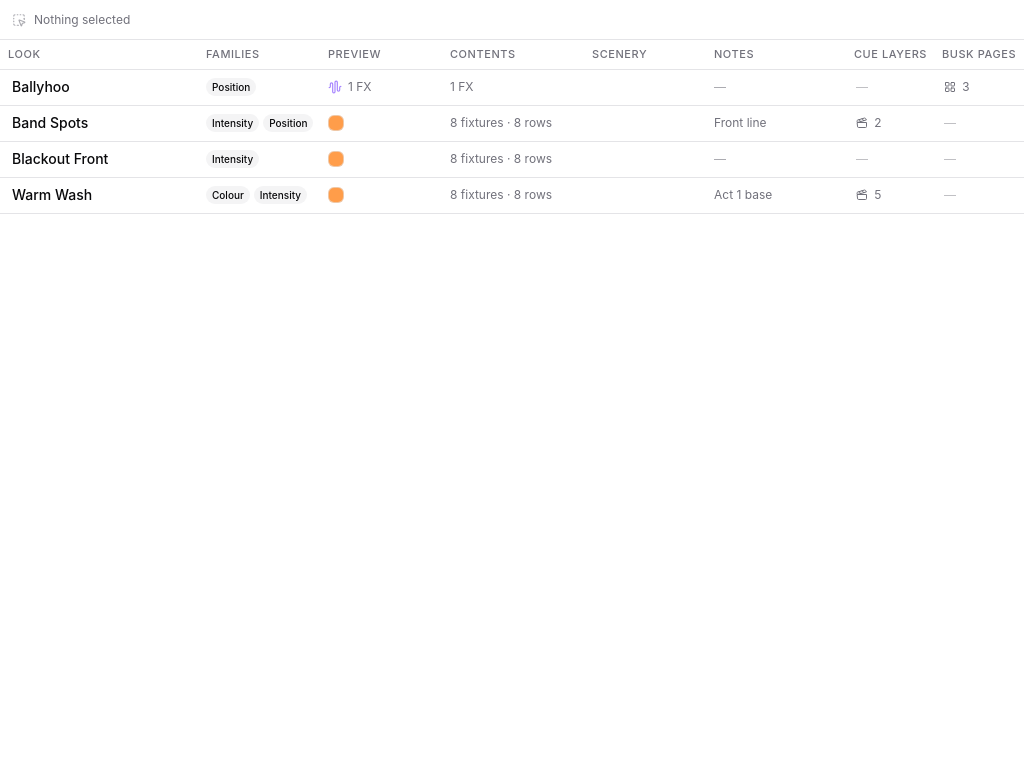
LookSheet › Delete over three asks once: the one a cue layers, and the one with pads it never sent
The image size is (1024, 768).
Click the element showing "Ballyhoo" at (100, 87), box [0,70,200,104]
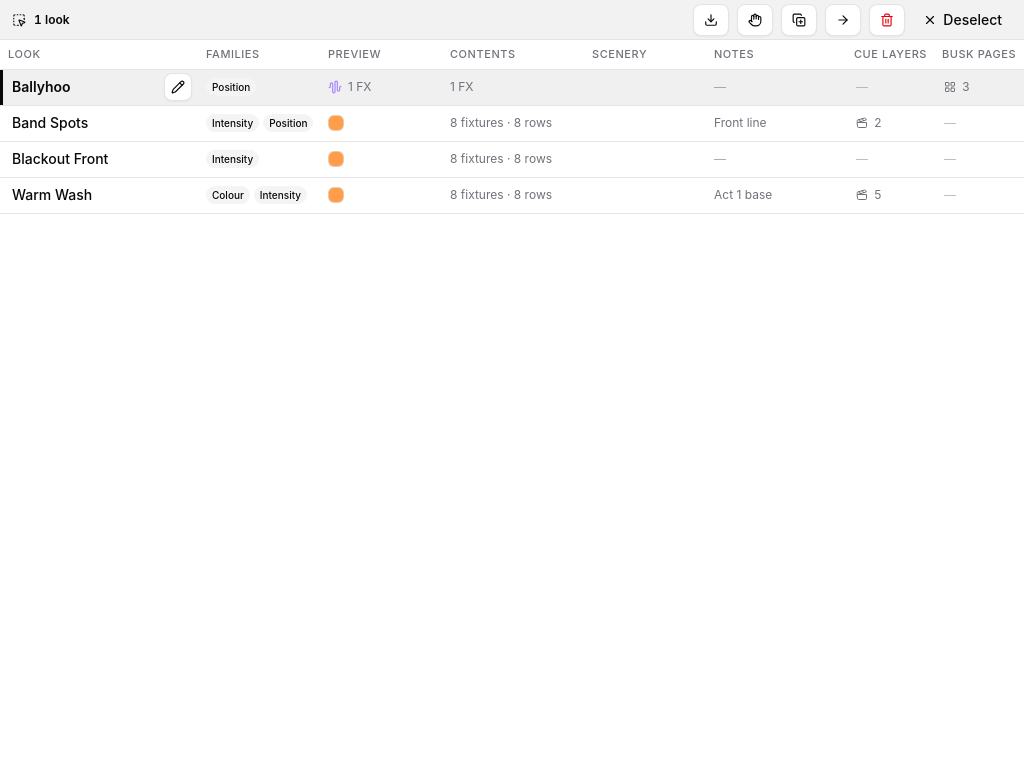
Click the element showing "Band Spots" at (100, 123), box [0,106,200,140]
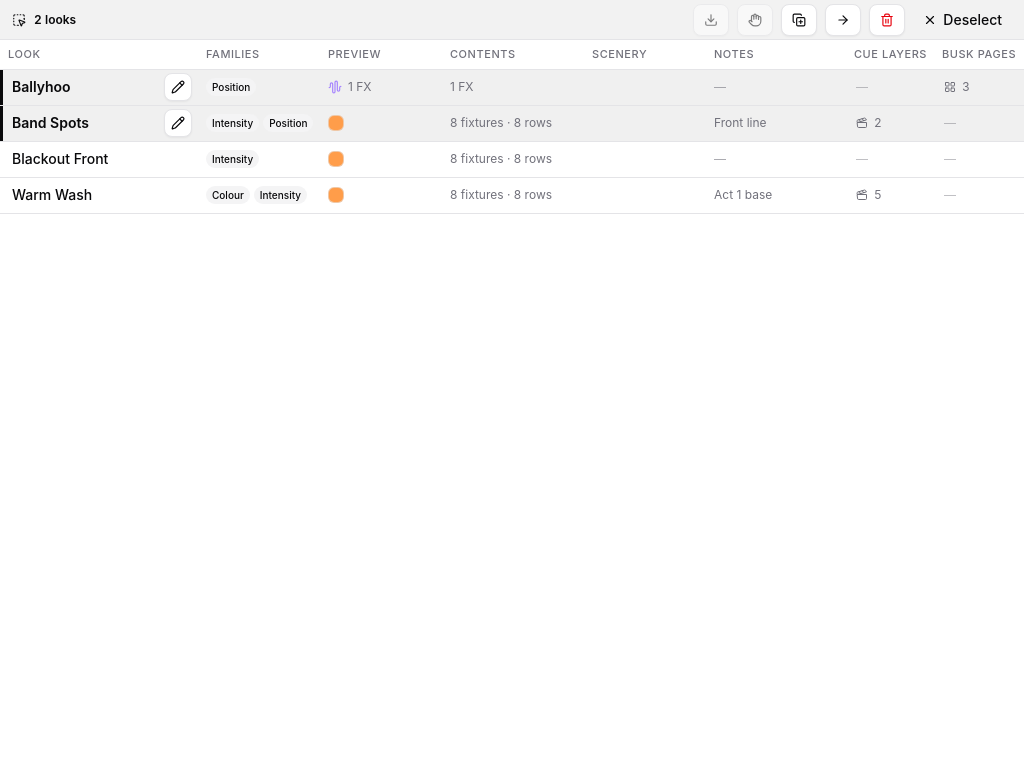
Click the element showing "Blackout Front" at (100, 159), box [0,142,200,176]
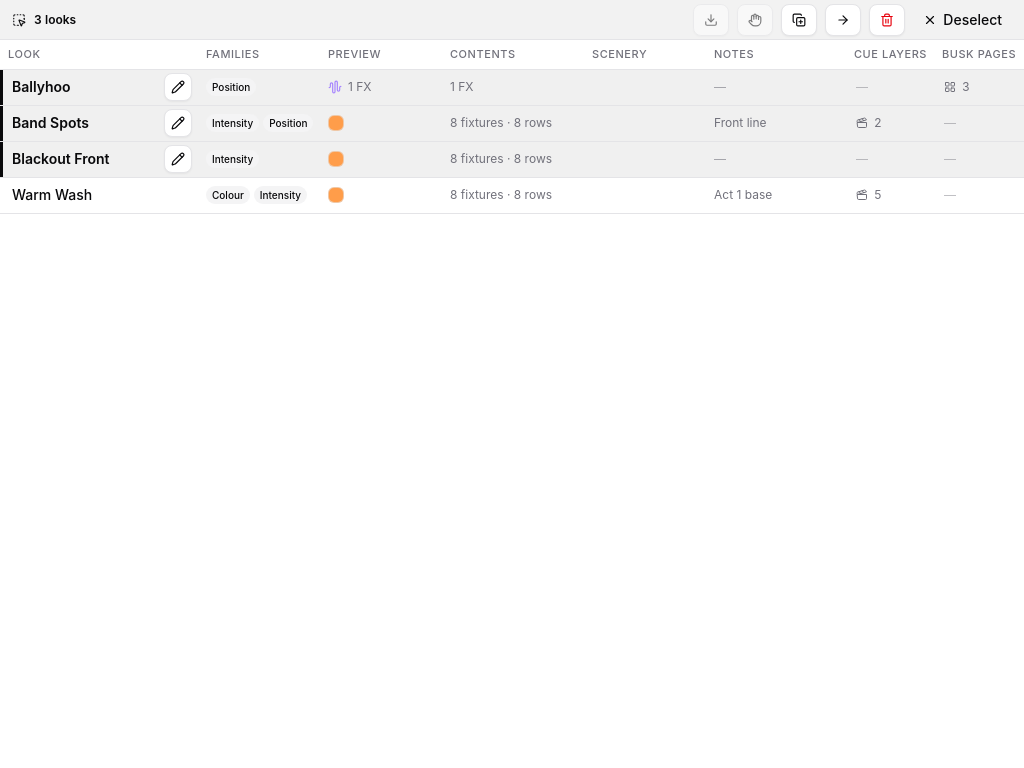
Click the button named "Delete" at (887, 20), box [869,4,905,36]
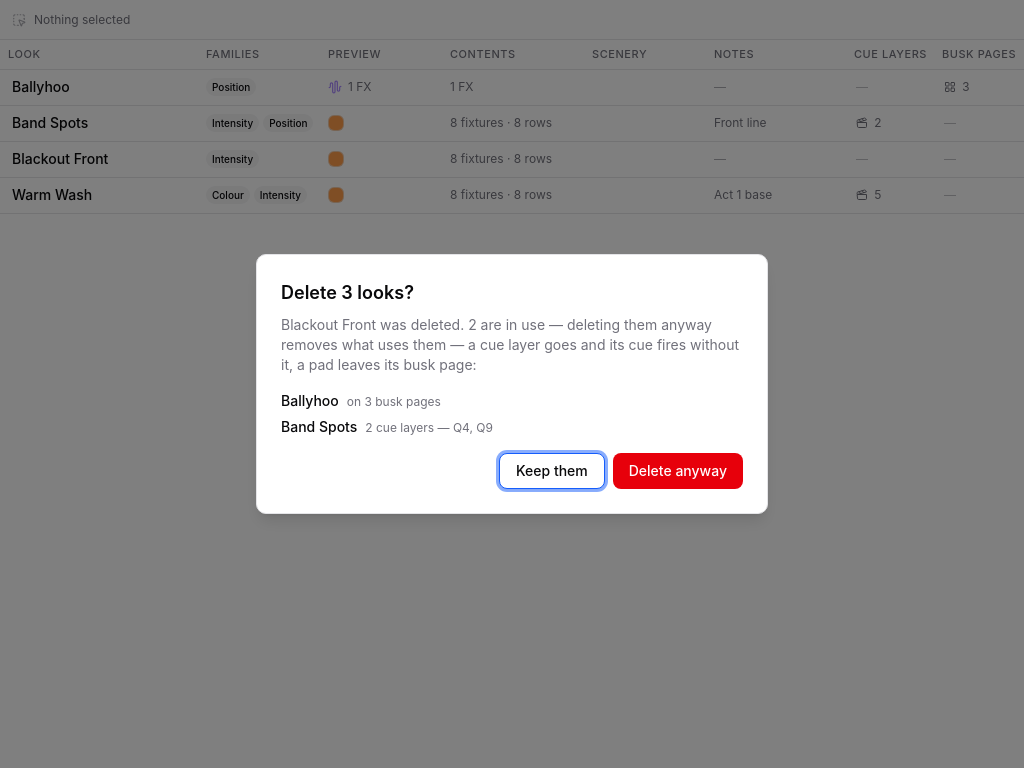
Expected: the dialog shows "Blackout Front was deleted.", [256,254,768,514]
Expected: the dialog shows "Ballyhoo", [281,392,339,409]
Expected: the dialog shows "on 3 busk pages", [347,394,441,409]
Click the button "Keep them" at (552, 471), box [499,453,605,489]
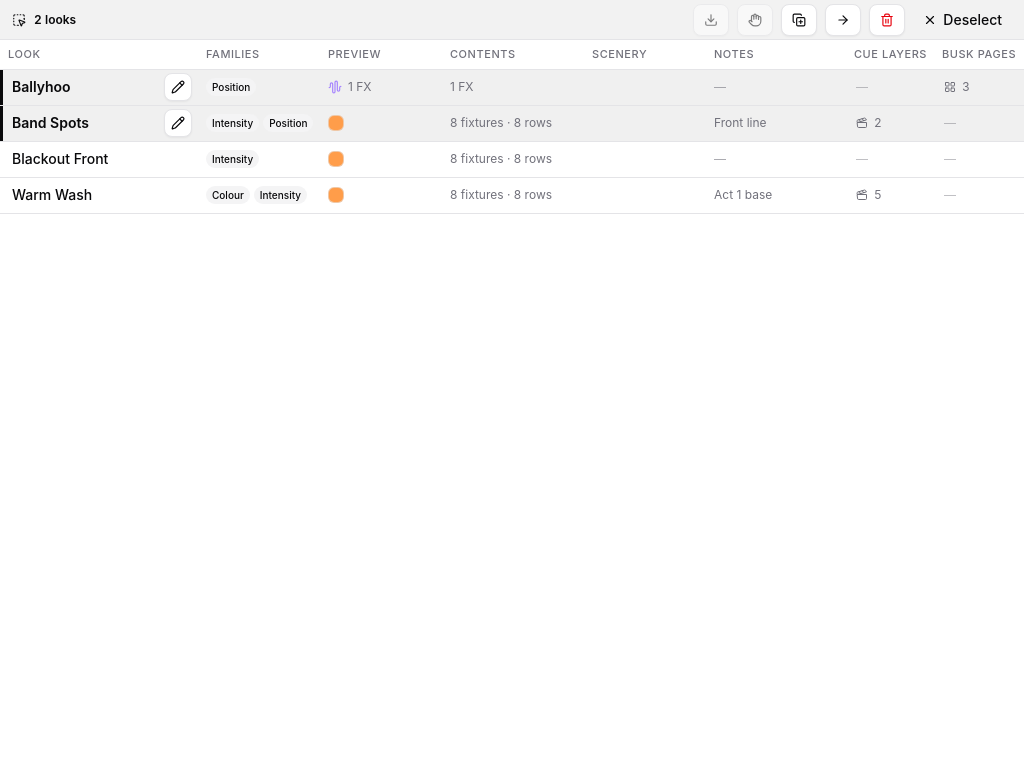
Expected: the text "2 looks" is shown, [34,12,76,28]
